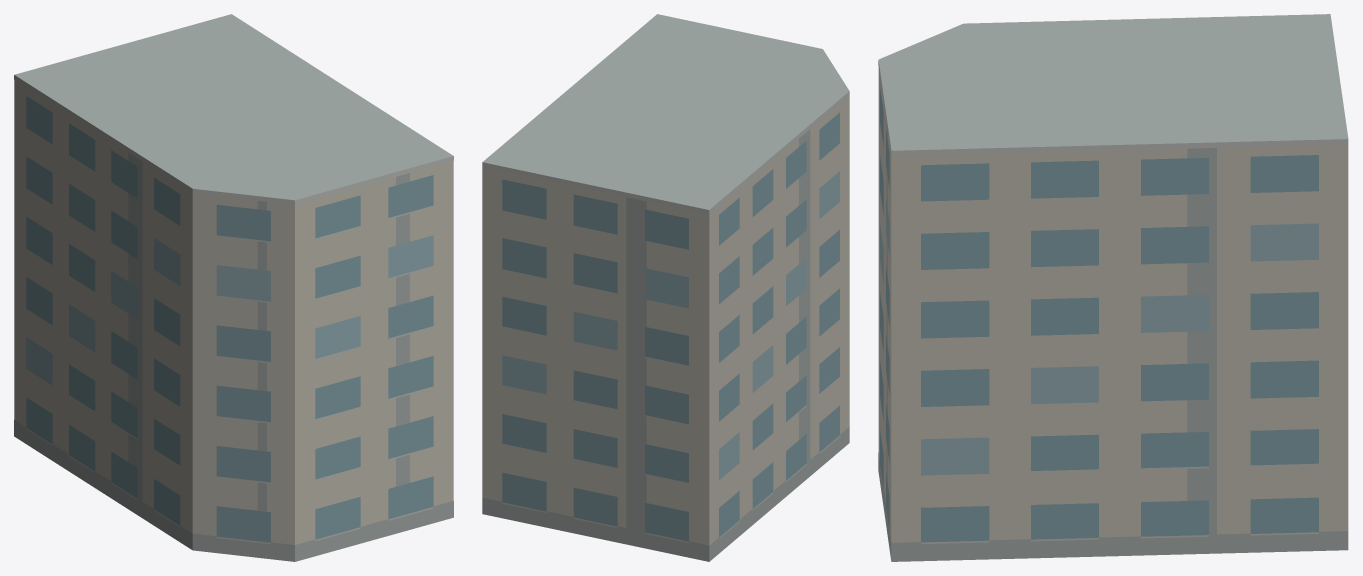
Rendered from residential-8557a34b-5602-4a17-8ece-aaae36630862.glb.
3 views of the same model, side by side, from view 1: azimuth 30°, elevation 25°; view 2: azimuth 150°, elevation 25°; view 3: azimuth 270°, elevation 25° (orthographic). The views are drawn at different scales.
Parts seen in each view (by area): view 1: residential-8557a34b-5602-4a17-8ece-aaae36630862.tmp; view 2: residential-8557a34b-5602-4a17-8ece-aaae36630862.tmp; view 3: residential-8557a34b-5602-4a17-8ece-aaae36630862.tmp.
Part boxes in pixels (x1,y1,x2,y2): residential-8557a34b-5602-4a17-8ece-aaae36630862.tmp: [14, 14, 453, 561]; residential-8557a34b-5602-4a17-8ece-aaae36630862.tmp: [482, 14, 849, 561]; residential-8557a34b-5602-4a17-8ece-aaae36630862.tmp: [878, 14, 1348, 561].
Bounding box in the file's own units: 13.06 × 18.3 × 18.97.
